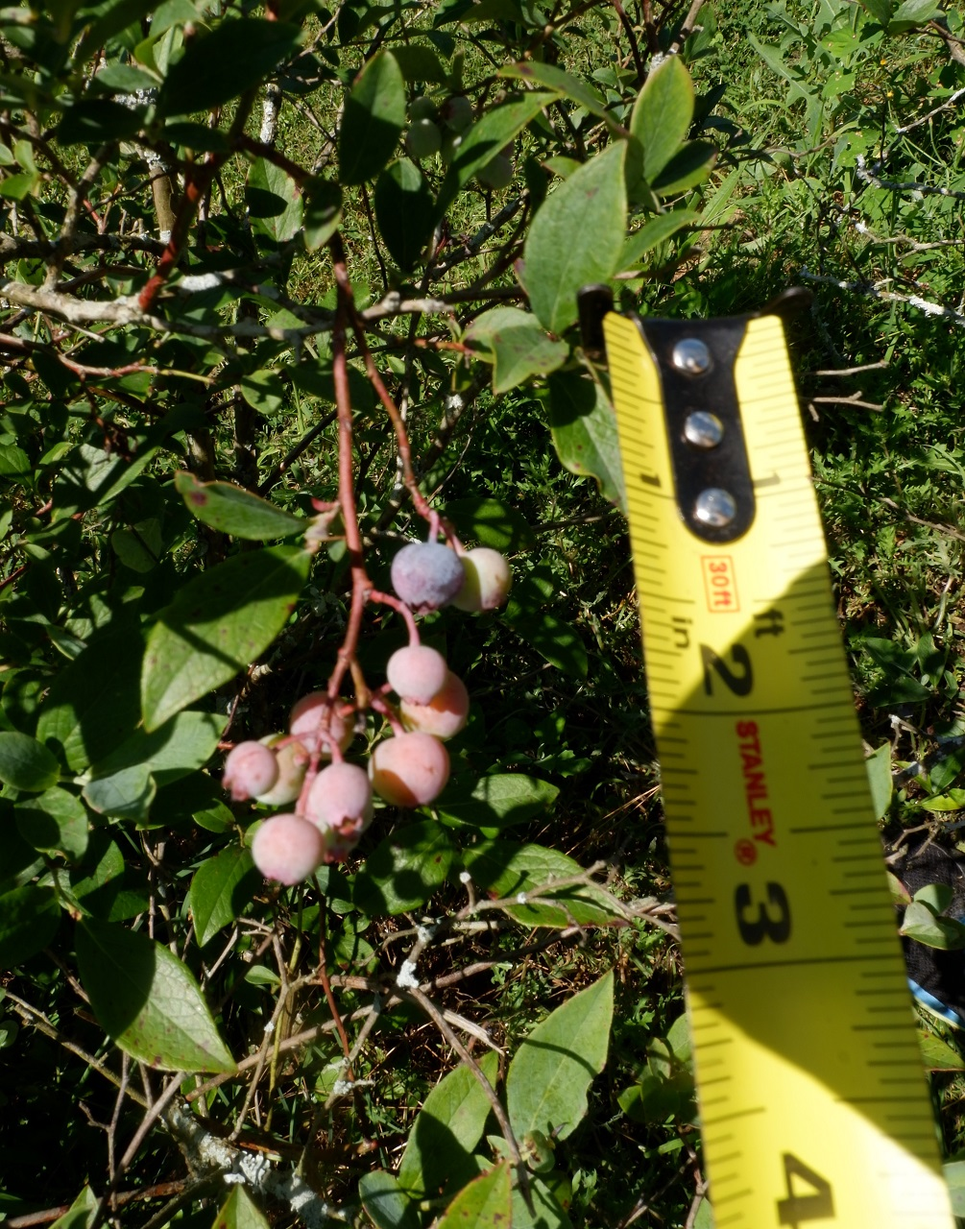Immature: (367, 732, 450, 809), (252, 813, 326, 886), (309, 763, 374, 844), (399, 670, 470, 741), (290, 691, 355, 760), (450, 547, 512, 613), (305, 796, 363, 864), (386, 645, 449, 707), (254, 735, 309, 805), (225, 741, 278, 802)
Mature: (391, 542, 466, 615)
